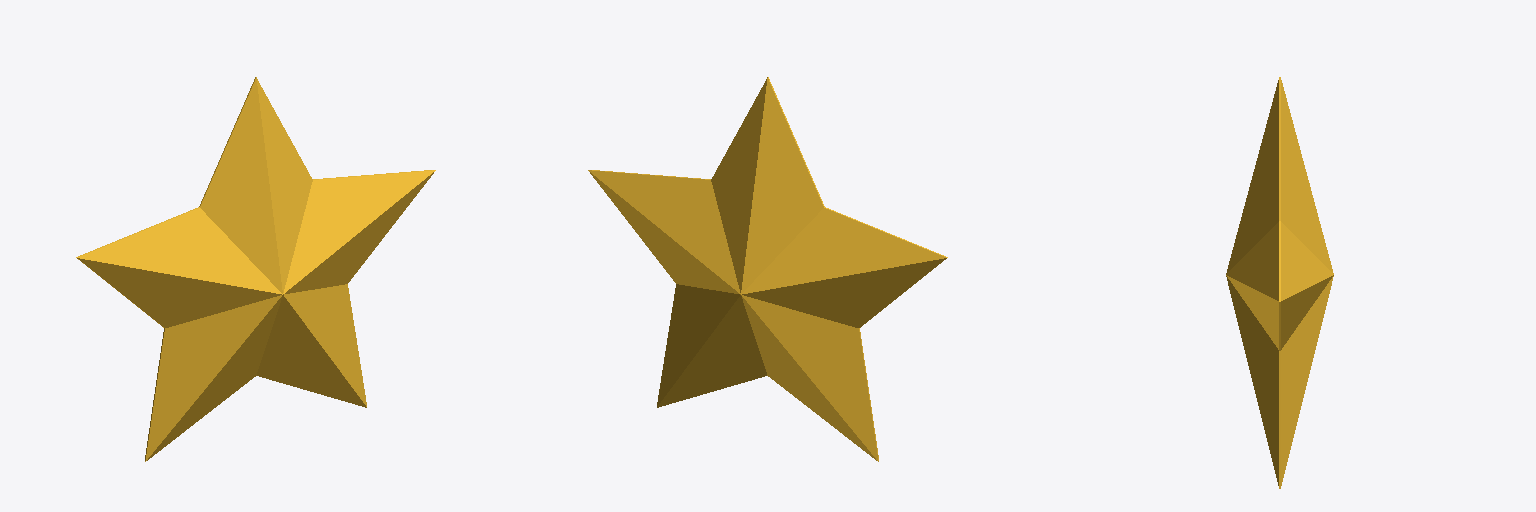
3 renders of one model, left to right at view 1: azimuth 30°, elevation 25°; view 2: azimuth 150°, elevation 25°; view 3: azimuth 270°, elevation 25°, orthographic.
Parts seen in each view (by area): view 1: star; view 2: star; view 3: star.
Boxes of the visible parts, <box> form: star: <box>76,77,435,461</box>; star: <box>588,77,947,461</box>; star: <box>1226,77,1333,488</box>.
Bounding box in the file's own units: 29.98 × 28.51 × 7.82.
1 materials, 1 textured.